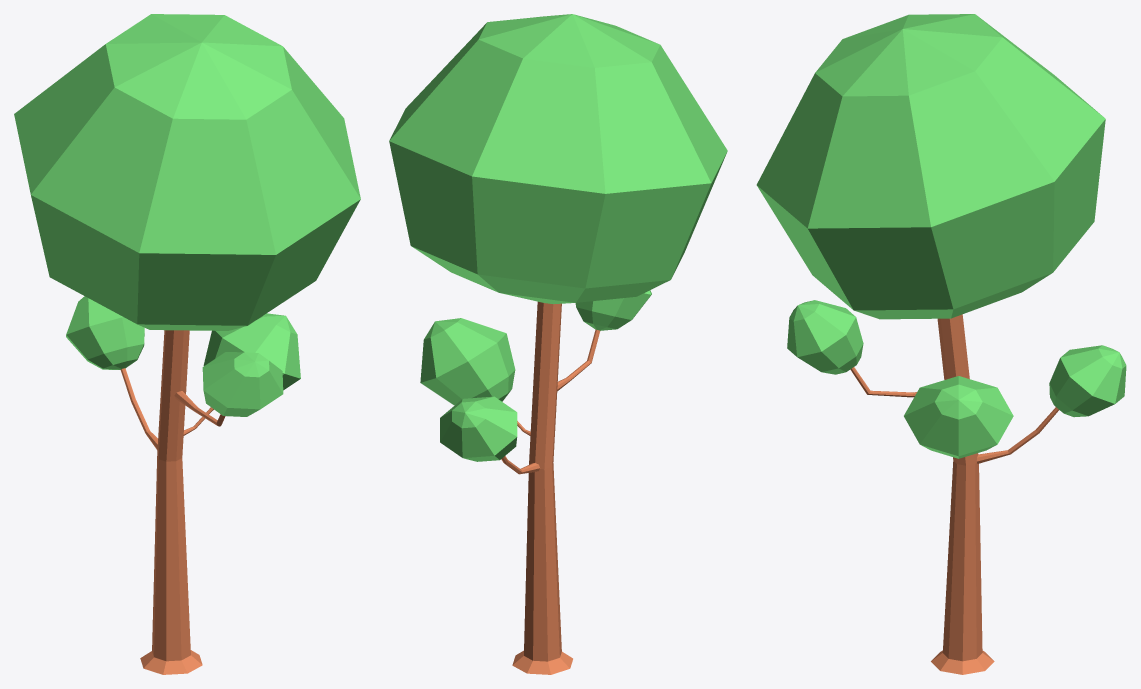
Rendered from Tree2.fbx.
3 views of the same model, side by side, from view 1: azimuth 30°, elevation 25°; view 2: azimuth 150°, elevation 25°; view 3: azimuth 270°, elevation 25° (orthographic). The views are drawn at different scales.
Parts seen in each view (by area): view 1: Cylinder; view 2: Cylinder; view 3: Cylinder.
Boxes of the visible parts, <box> form: Cylinder: <box>14,14,360,674</box>; Cylinder: <box>389,14,727,674</box>; Cylinder: <box>756,14,1126,674</box>.
Size of the model in its own units: 714 by 1397 by 740.
